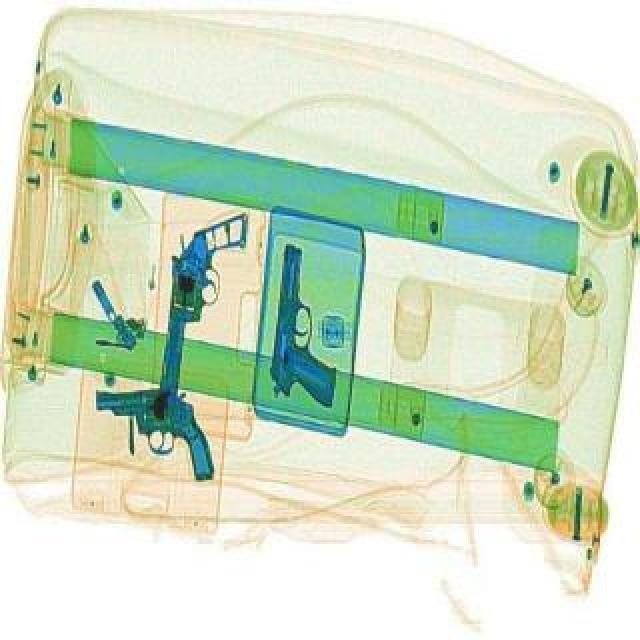gun: (142, 194, 254, 410), (94, 366, 214, 498), (264, 240, 352, 406)
